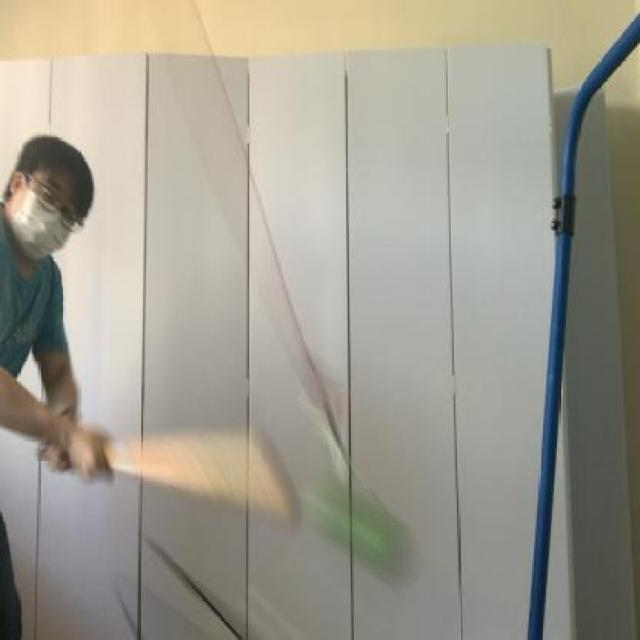baseball: (298, 469, 422, 589)
